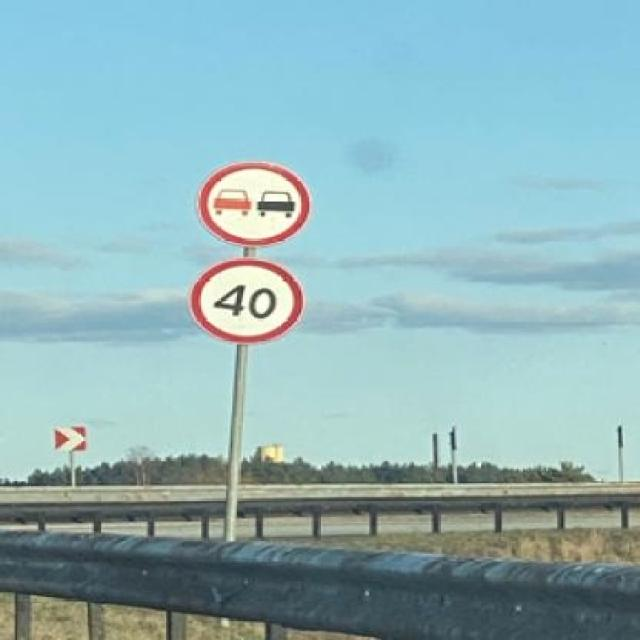forb_speed_over_40: (191, 252, 307, 346)
